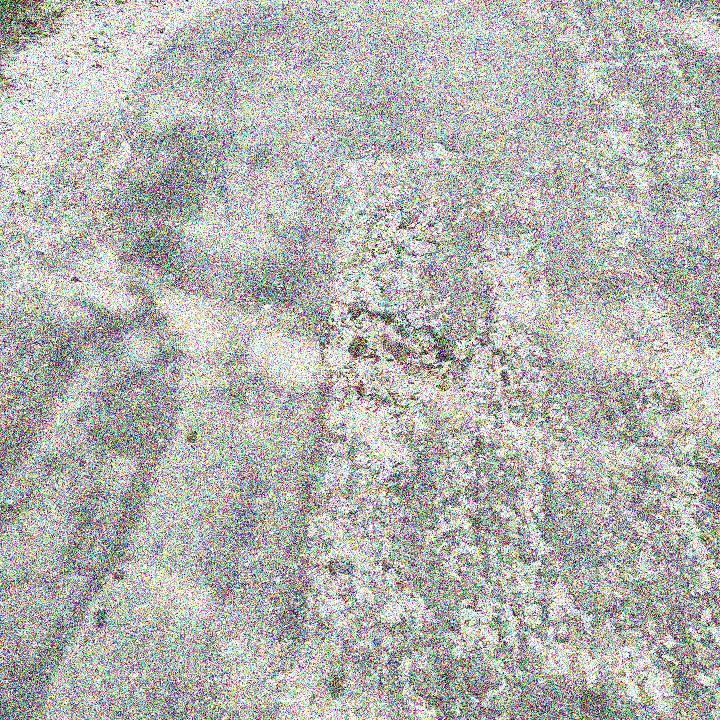pothole: (319, 297, 465, 414)
